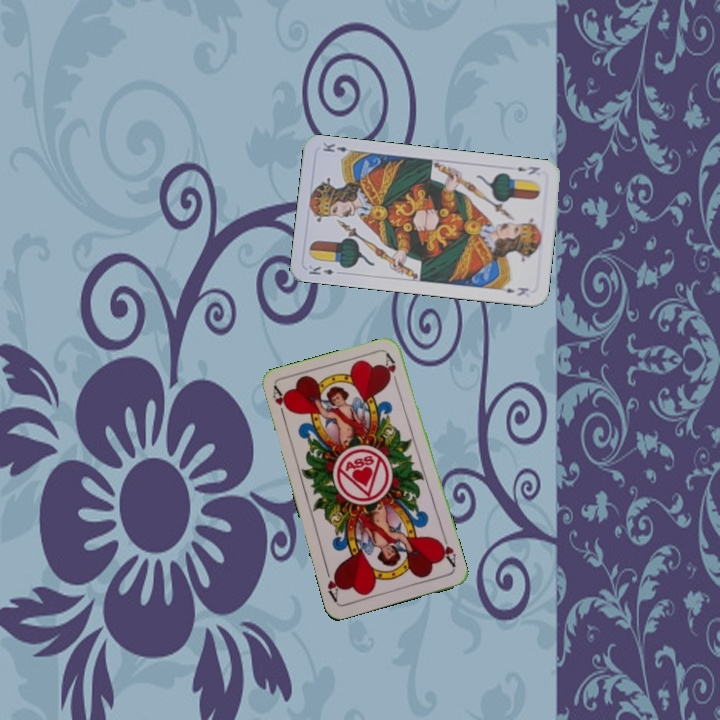EK: (305, 261, 336, 278), (513, 162, 542, 177)
HA: (269, 383, 293, 423), (434, 531, 458, 570)
